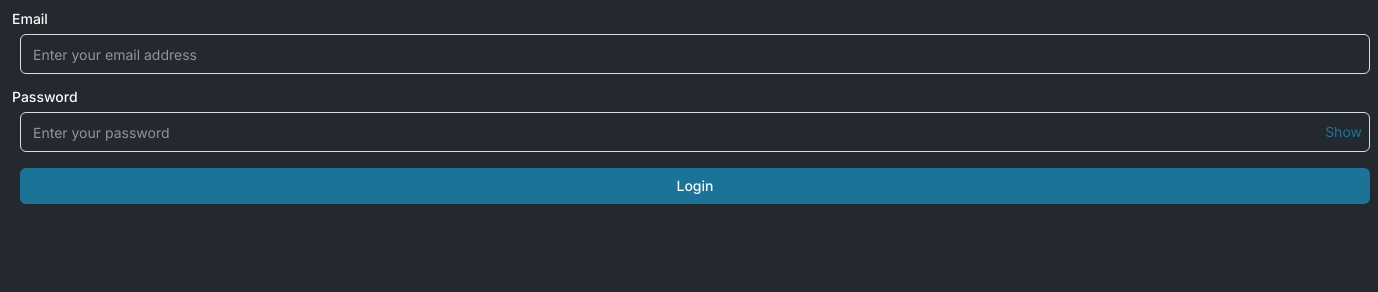
Test: LoginForm › Failed login › displays error message on failed login
This screenshot has width=1378, height=292.
Type "test@example.com" into the field with test id "email-input" at (695, 54), box [20,34,1370,74]
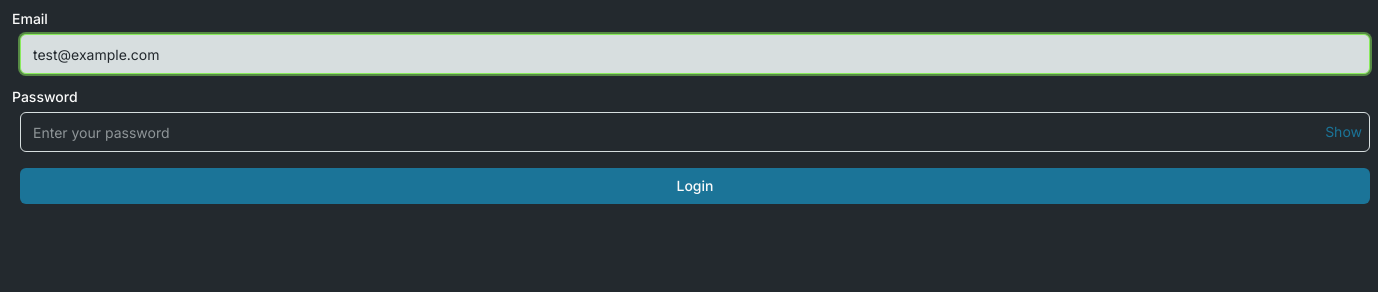
Type "wrongpassword" into the password field with test id "password-input" at (695, 132), box [20,112,1370,152]
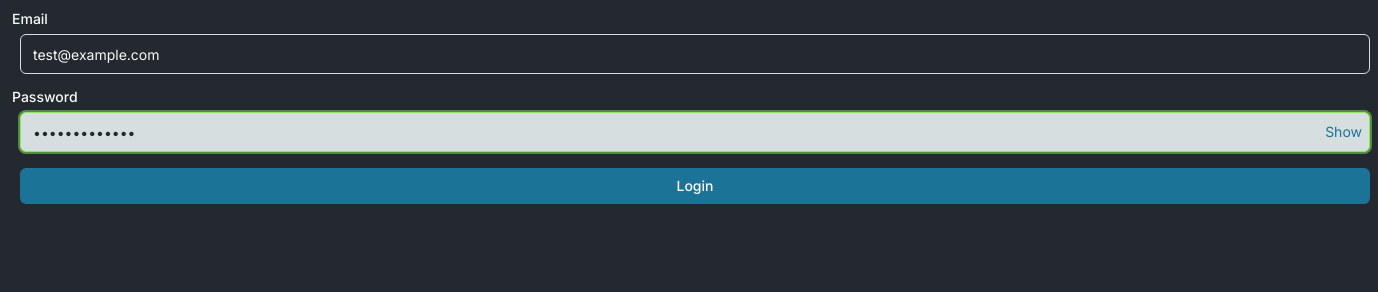
Click the button with test id "login-button" at (695, 186), box [20,168,1370,204]
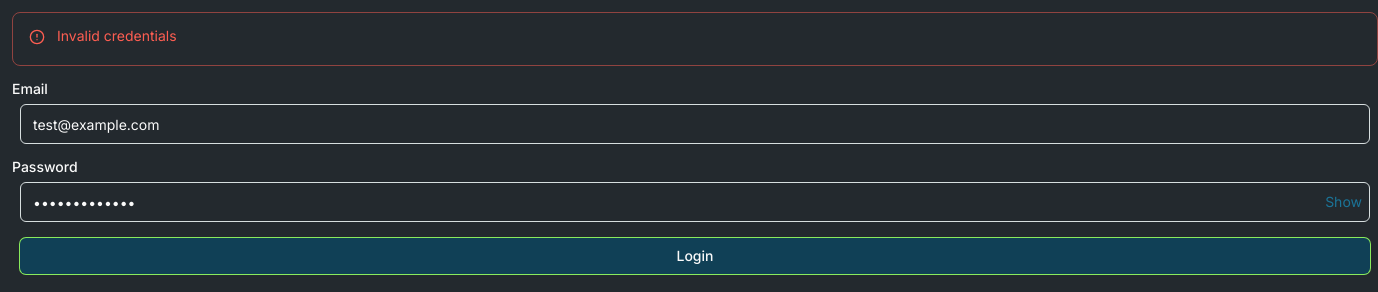
Expected: the text "Invalid credentials" is shown, [57,27,177,44]
